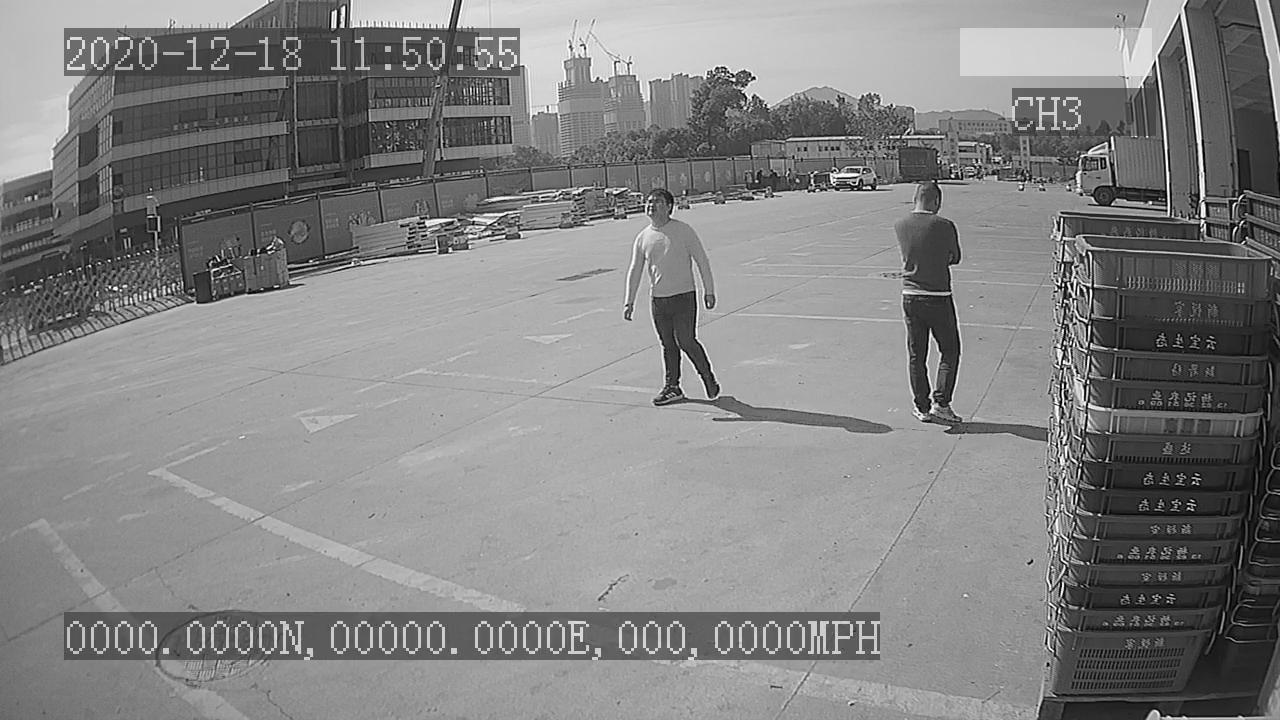person: (617, 186, 731, 413), (890, 176, 967, 427)
